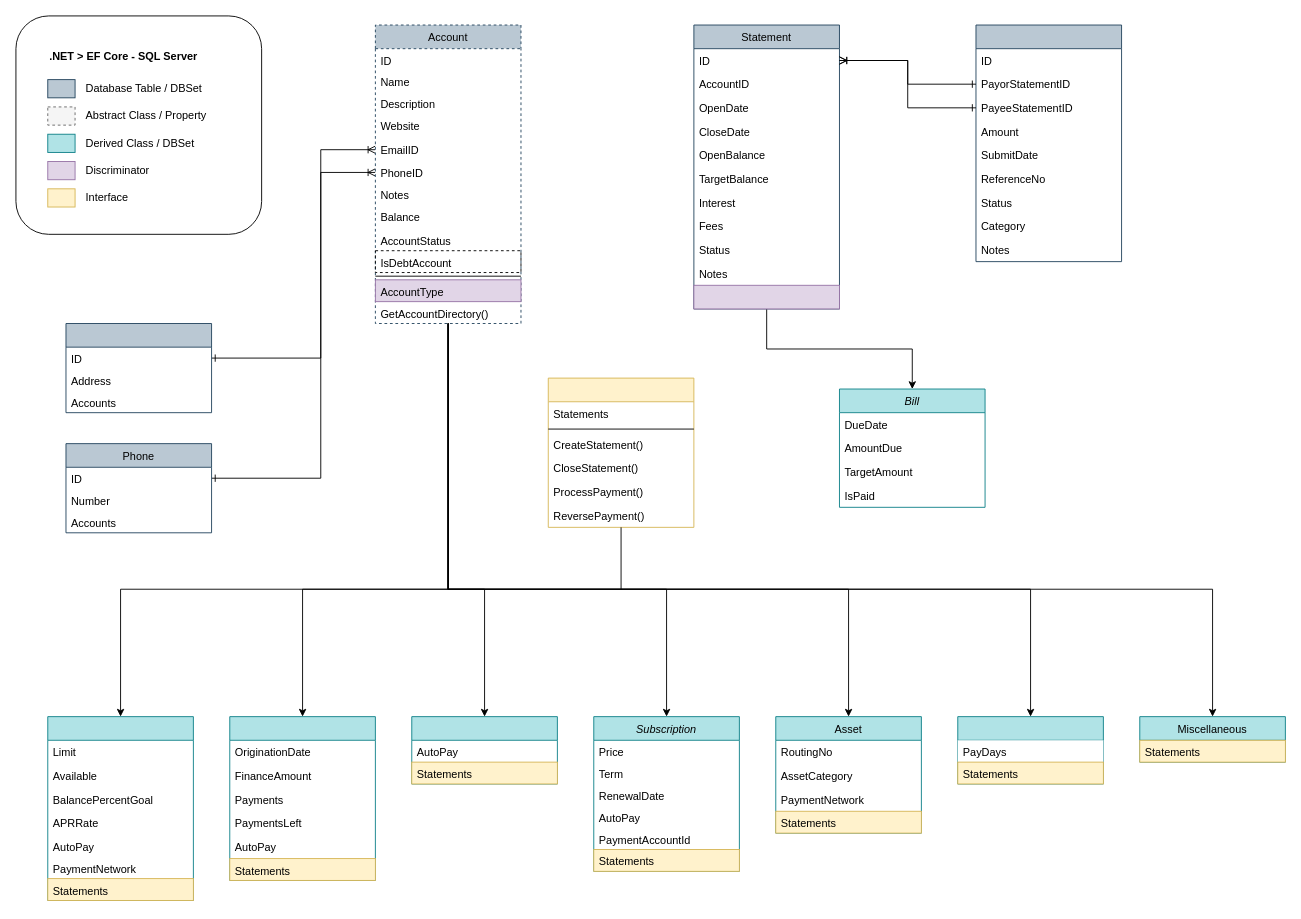
Some shapes in this 1301 by 919 pixel diagram are drawn without their labels. The shapes that lost their labels are listed below. From the top down, each one's box as (x1, y1, x2, y2) in pixels, then its label:
(975, 24, 1122, 262): StatementTransaction
(693, 284, 839, 309): StatementType
(65, 323, 212, 413): Email
(547, 377, 694, 527): IStatement
(411, 716, 557, 784): Utility
(957, 716, 1103, 784): Income
(47, 716, 193, 900): Credit
(229, 716, 375, 880): Loan
